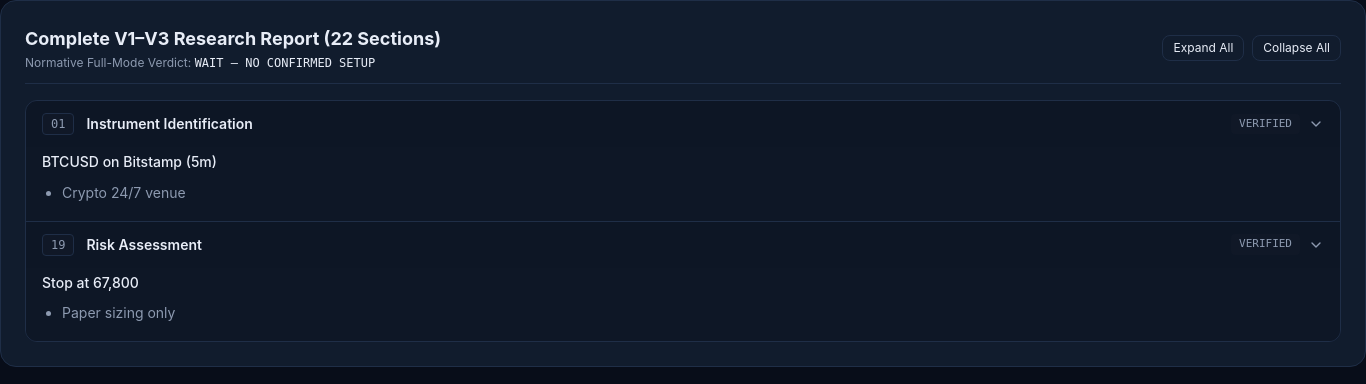
Test: Quick Signal Results & Full Analysis Components › renders FullAnalysisAccordion and toggles expandable sections
Expected: the text "Instrument Identification" is shown, [86, 114, 253, 134]
Expected: the text "BTCUSD on Bitstamp (5m)" is shown, [42, 153, 217, 170]
Click the button "Collapse All": (1297, 48) [1252, 35, 1341, 61]
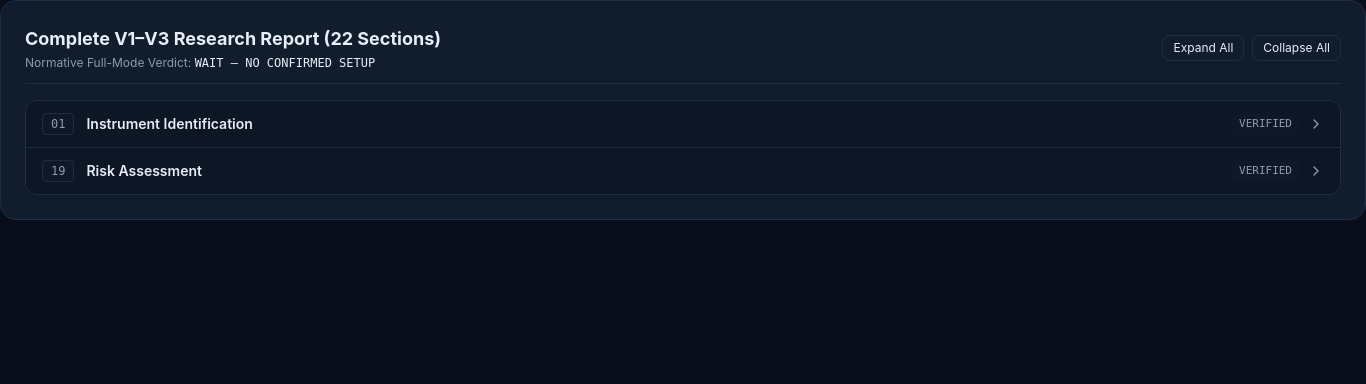
Now the text "BTCUSD on Bitstamp (5m)" is gone
Click the button "Expand All": (1203, 48) [1162, 35, 1244, 61]
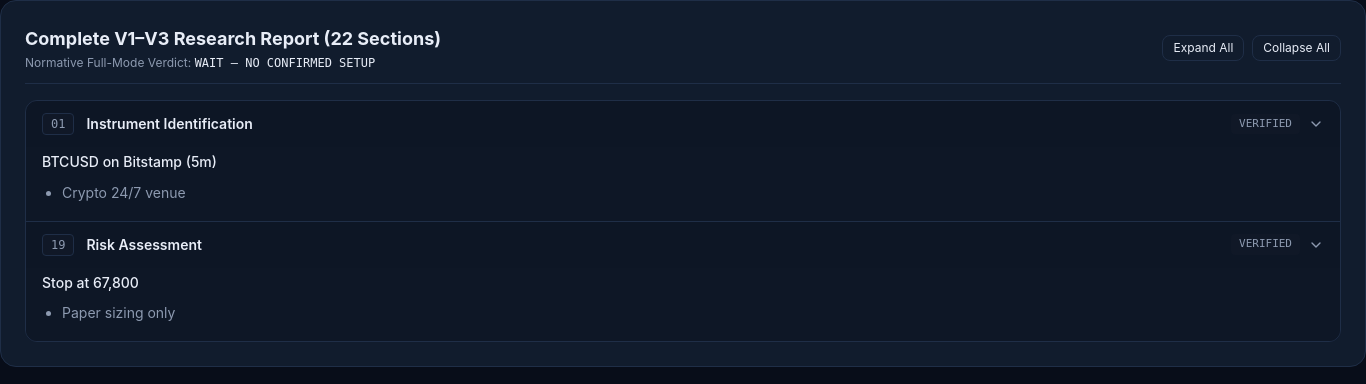
Now the text "BTCUSD on Bitstamp (5m)" is shown, box [42, 153, 217, 170]
